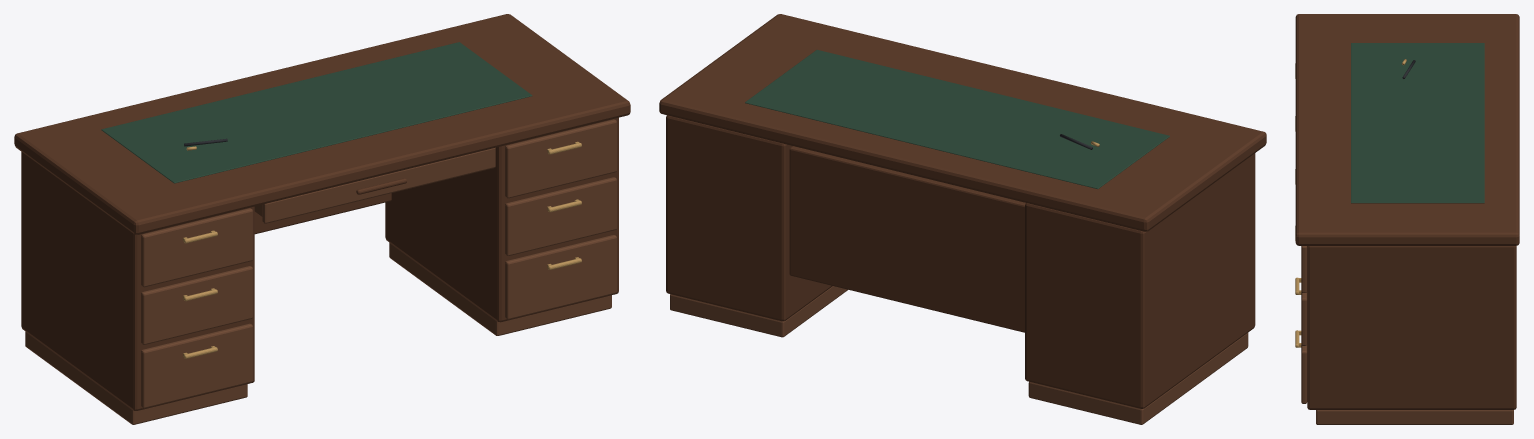
The model's file is deskExecutive.glb.
The picture shows the model from 3 angles, left to right: view 1: azimuth 30°, elevation 25°; view 2: azimuth 150°, elevation 25°; view 3: azimuth 270°, elevation 25°; orthographic projection. The views are drawn at different scales.
Parts seen in each view (by area): view 1: deskExecutive, drawer; view 2: deskExecutive; view 3: deskExecutive.
Part boxes in pixels (<box>): deskExecutive: <box>14,14,630,424</box>; drawer: <box>254,147,495,223</box>; deskExecutive: <box>659,14,1266,424</box>; deskExecutive: <box>1295,14,1519,424</box>.
Bounding box in the file's own units: 1.8 × 0.7535 × 0.771.
